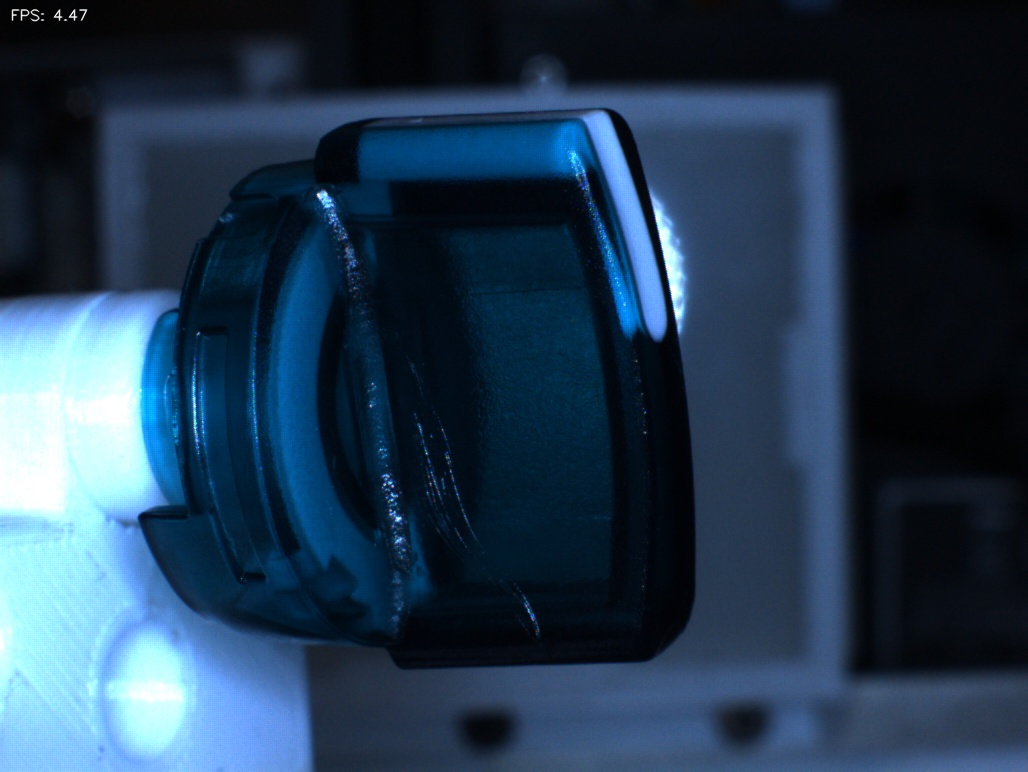Givrage: (393, 358, 546, 635)
